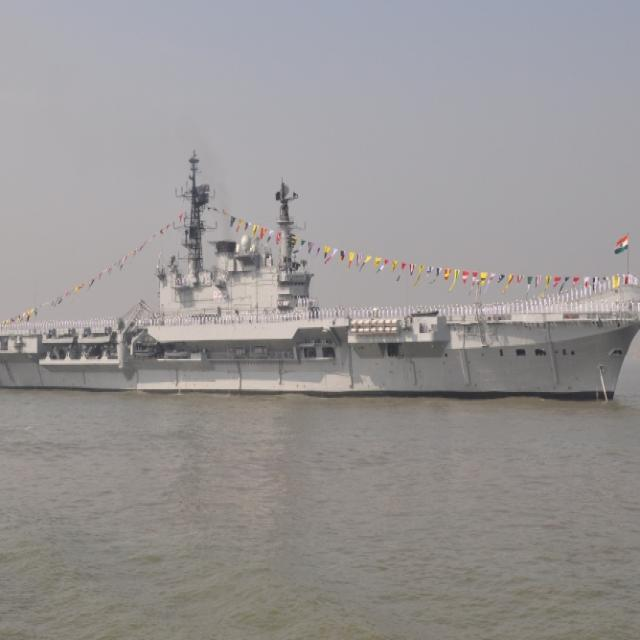Portanaves: (1, 141, 640, 406)
